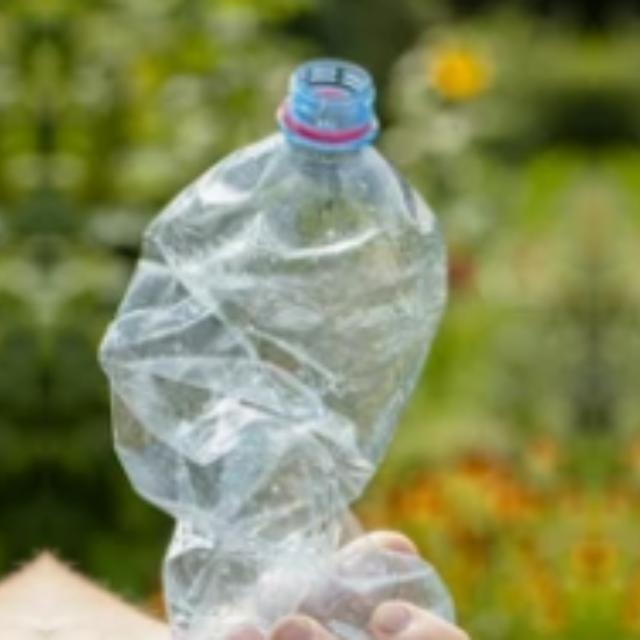Plastic: (76, 36, 464, 640), (0, 36, 14, 640)
